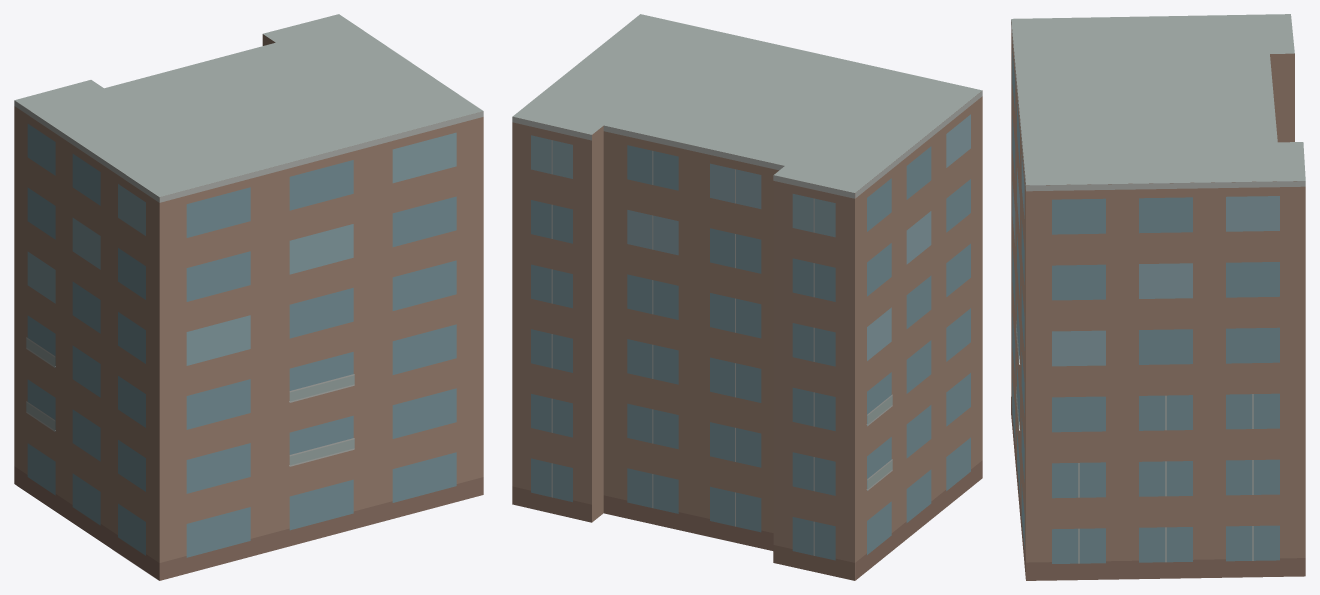
Rendered from survey-upis-32747352.glb.
The picture shows the model from 3 angles, left to right: view 1: azimuth 30°, elevation 25°; view 2: azimuth 150°, elevation 25°; view 3: azimuth 270°, elevation 25°; orthographic projection. The views are drawn at different scales.
Parts seen in each view (by area): view 1: survey-upis-32747352.tmp; view 2: survey-upis-32747352.tmp; view 3: survey-upis-32747352.tmp.
Boxes of the visible parts, left/top/right/bottom form: survey-upis-32747352.tmp: left=14, top=14, right=483, bottom=580; survey-upis-32747352.tmp: left=512, top=14, right=982, bottom=580; survey-upis-32747352.tmp: left=1011, top=14, right=1305, bottom=580.
Bounding box in the file's own units: 15.44 × 16.6 × 11.22.
